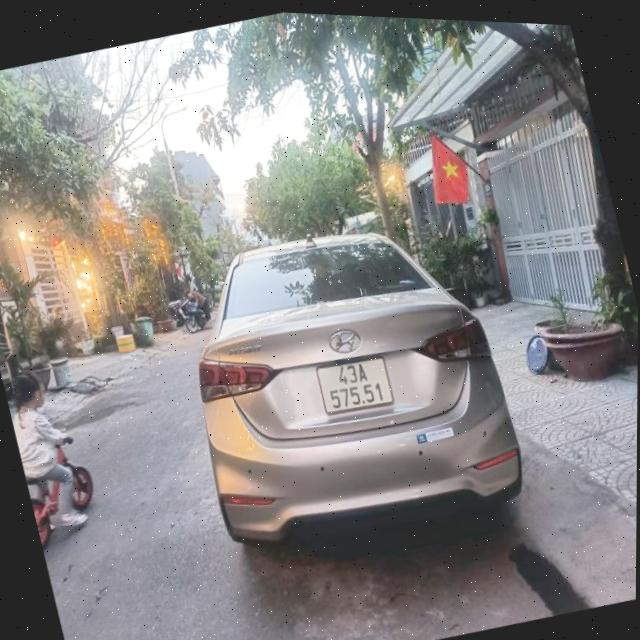car: (154, 174, 541, 588)
motorcycle: (18, 438, 98, 558)
plate: (305, 342, 403, 427)
